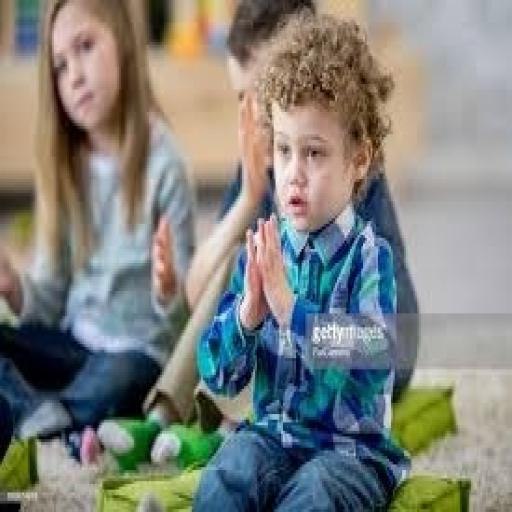clapping: (190, 11, 413, 509), (0, 0, 197, 459)
